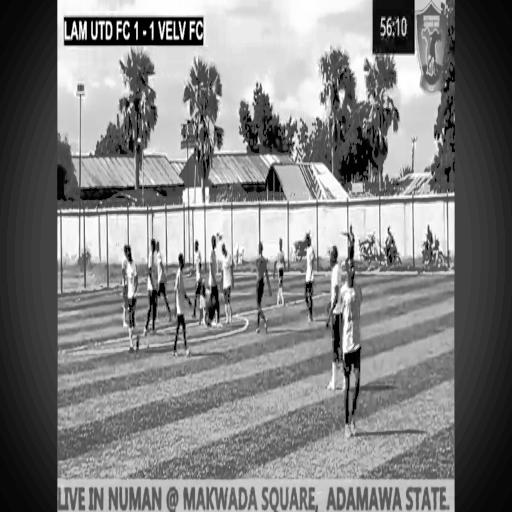referee: (248, 235, 273, 340), (342, 216, 357, 273)
team1: (342, 245, 362, 448), (153, 224, 171, 326), (299, 234, 317, 328), (175, 249, 187, 358), (146, 232, 158, 334), (208, 228, 218, 324), (192, 230, 203, 313)
team2: (324, 240, 343, 391), (118, 240, 138, 356), (219, 240, 235, 328), (276, 230, 288, 312), (197, 276, 209, 333)
